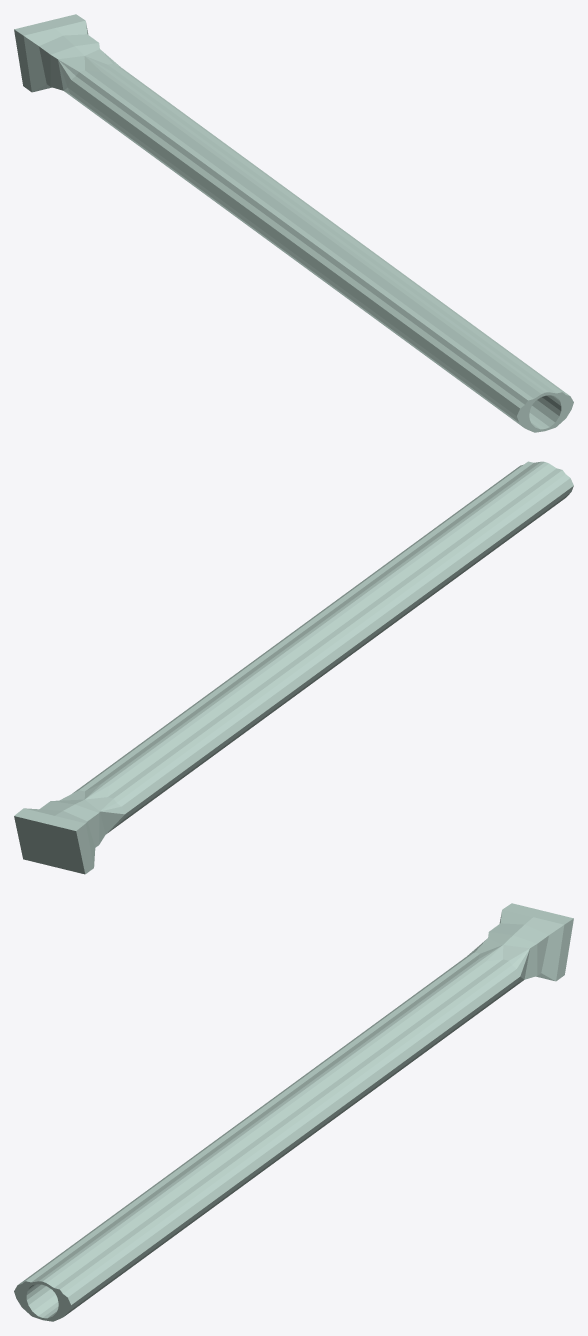
Rendered from Aim.fbx.
3 renders of one model, top to bottom at view 1: azimuth 30°, elevation 25°; view 2: azimuth 150°, elevation 25°; view 3: azimuth 330°, elevation 25°, orthographic.
Parts seen in each view (by area): view 1: TankAim; view 2: TankAim; view 3: TankAim.
Part boxes in pixels (bbox=[...]): TankAim: bbox=[14, 14, 573, 432]; TankAim: bbox=[14, 461, 573, 874]; TankAim: bbox=[14, 903, 573, 1321].
Bounding box in the file's own units: 41.46 × 32.32 × 578.
